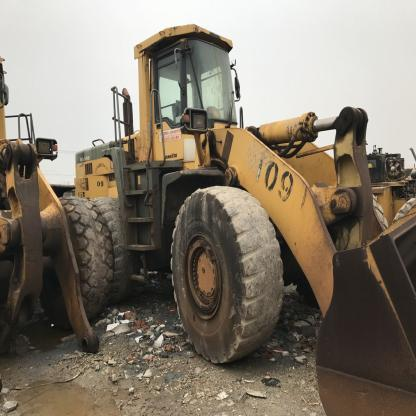bull_dozer/loader/grader: (63, 17, 413, 416)
